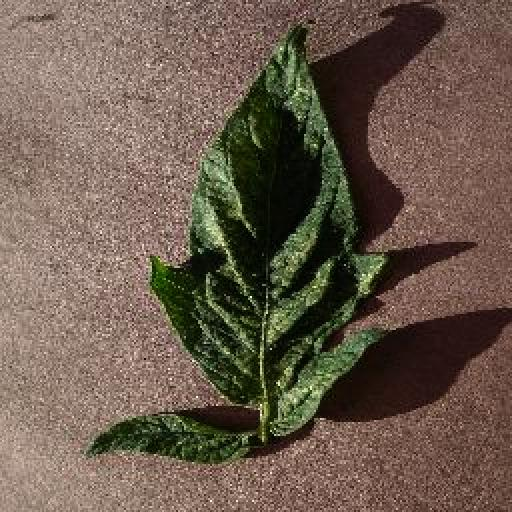disease_tomato: (150, 24, 390, 438)
